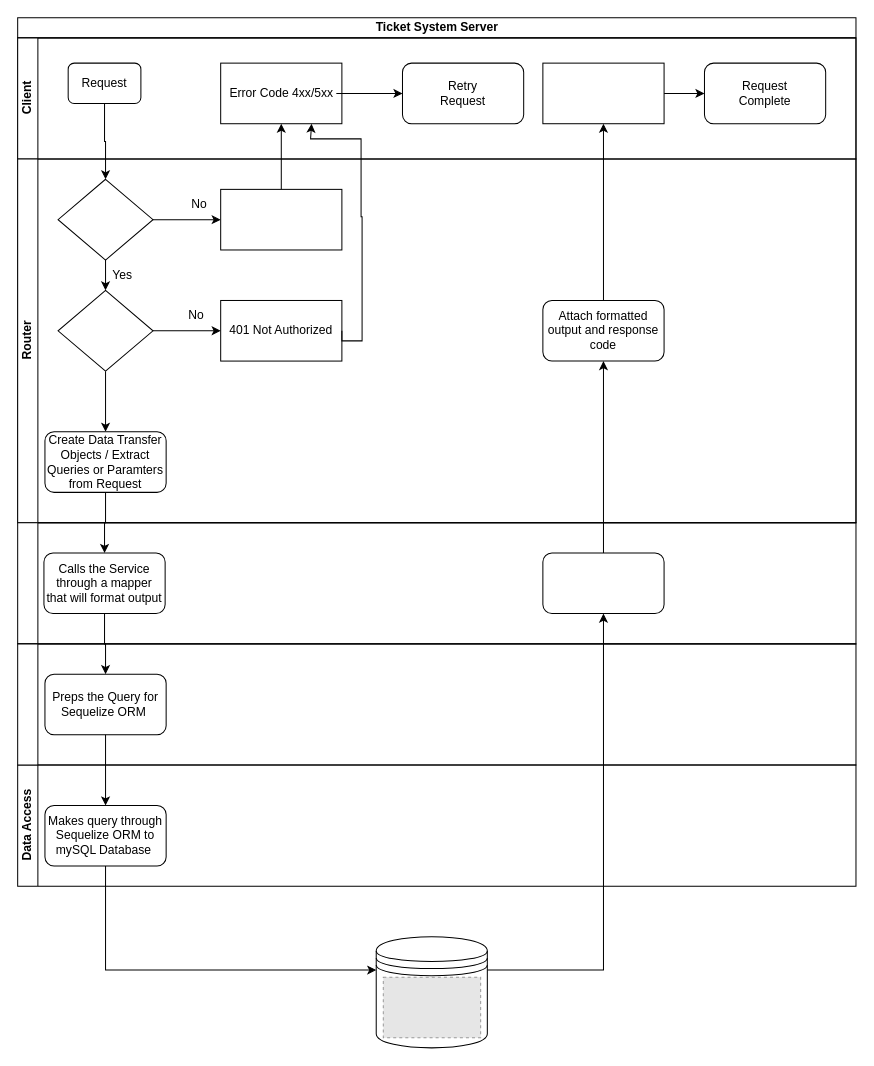
This 874x1066 diagram has some shape labels left out. Grey dashed boxes stand in for pictures. Here are the shapes that lost their labels. From the top down, the box of each, then its label:
(542, 62, 664, 124): Success code 2xx
(57, 178, 153, 260): Valid Route?
(220, 188, 342, 250): 404 Not Found
(57, 289, 153, 371): Authenticated?
(17, 522, 856, 644): Controller
(542, 552, 664, 614): Mapper formats output for response attachment
(17, 643, 856, 765): Service
